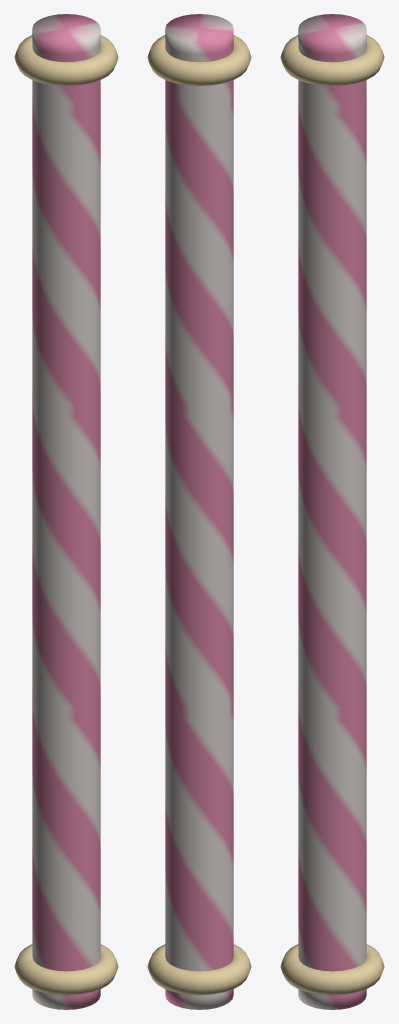
The model's file is W4_CarouselPole.fbx.
3 views of the same model, side by side, from view 1: azimuth 90°, elevation 25°; view 2: azimuth 150°, elevation 25°; view 3: azimuth 270°, elevation 25° (orthographic).
Visible parts, largest first — view 1: W4_CarouselPole; view 2: W4_CarouselPole; view 3: W4_CarouselPole.
Boxes of the visible parts, left/top/right/bottom form: W4_CarouselPole: left=14, top=14, right=118, bottom=1009; W4_CarouselPole: left=147, top=14, right=251, bottom=1009; W4_CarouselPole: left=280, top=14, right=384, bottom=1009.
Bounding box in the file's own units: 0.0976 × 1 × 0.0976.
